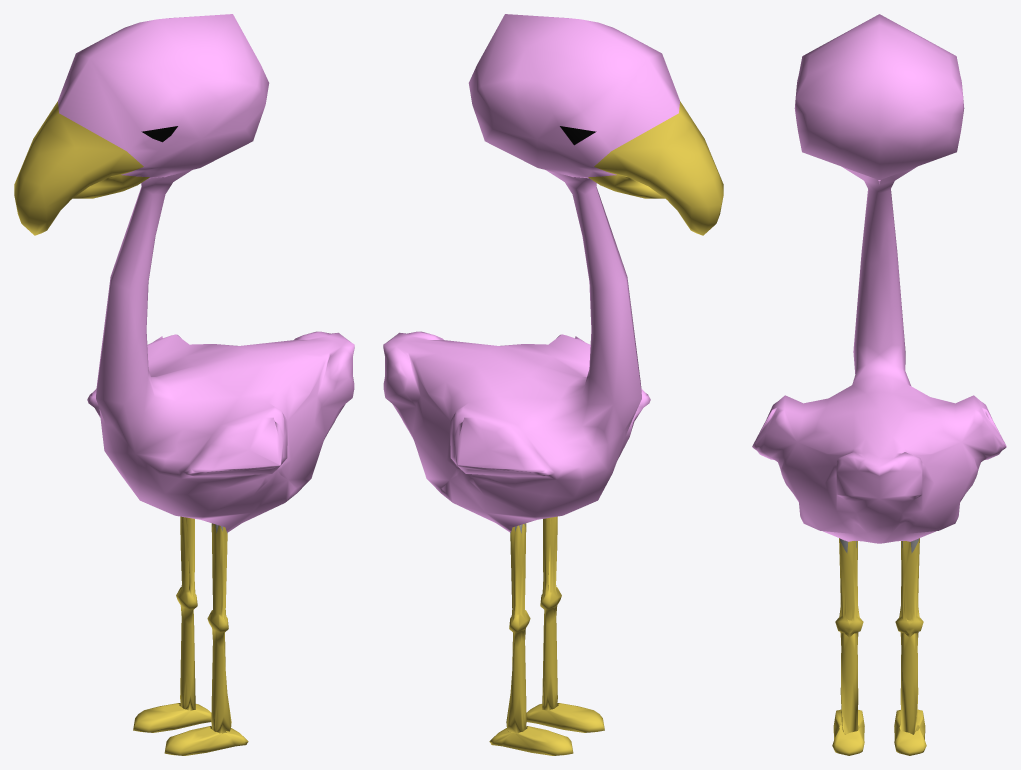
File: flamingo_sa.obj
The picture shows the model from 3 angles, left to right: view 1: azimuth 30°, elevation 25°; view 2: azimuth 150°, elevation 25°; view 3: azimuth 270°, elevation 25°; orthographic projection. The views are drawn at different scales.
Visible parts, largest first — view 1: Box02; view 2: Box02; view 3: Box02.
Boxes of the visible parts, <box> form: Box02: <box>14,14,354,755</box>; Box02: <box>383,14,723,755</box>; Box02: <box>752,14,1006,755</box>.
Bounding box in the file's own units: 41.56 × 85.85 × 28.32.
